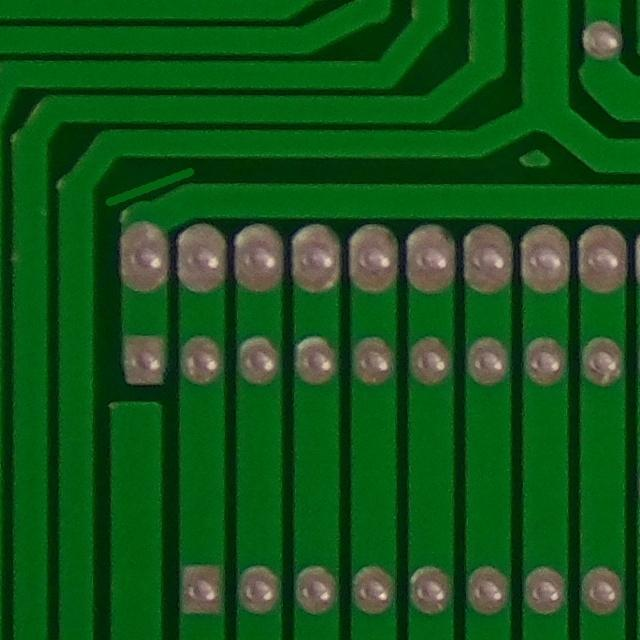spurious_copper: (93, 157, 208, 211)
